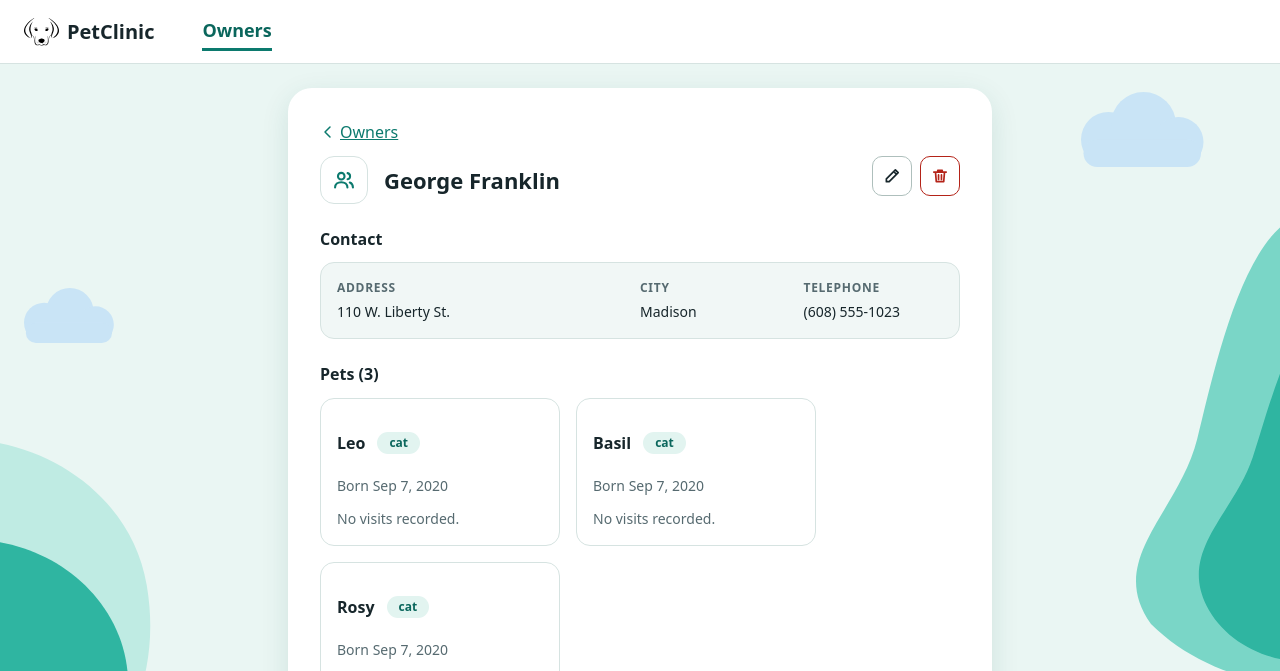
Test: deleting an owner › deletes the owner, returns to the list and says what happened
Click the button named "Delete owner".
click(940, 176)  # box top-left (920, 156), bottom-right (960, 196)
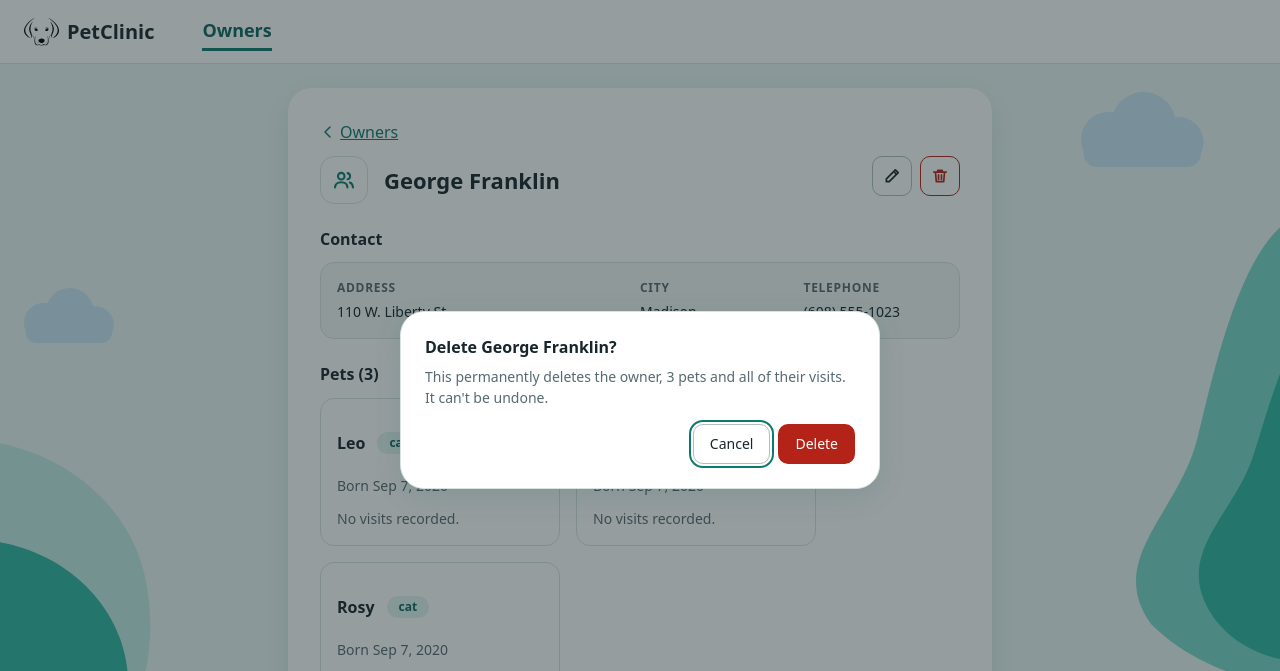
Click the button "Delete".
click(817, 444)  # box top-left (778, 424), bottom-right (855, 464)
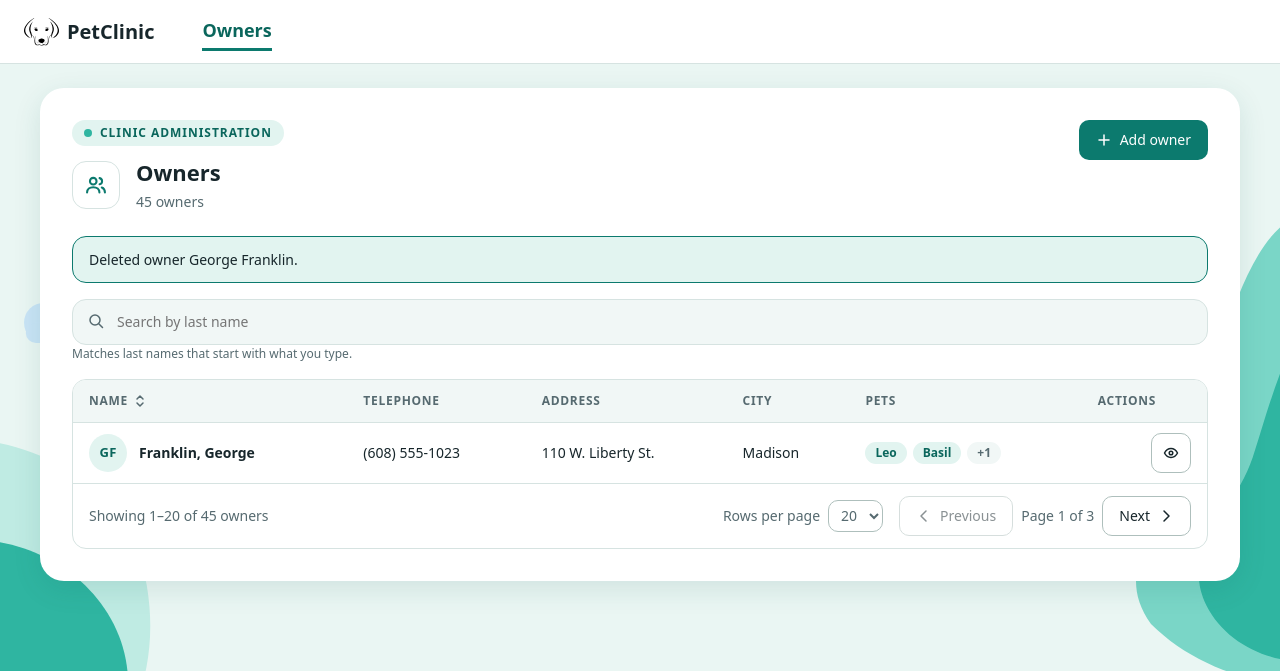
expect the heading "Owners" is shown: met, box top-left (136, 158), bottom-right (221, 187)
expect the text "Deleted owner George Franklin." is shown: met, box top-left (72, 236), bottom-right (1208, 283)
